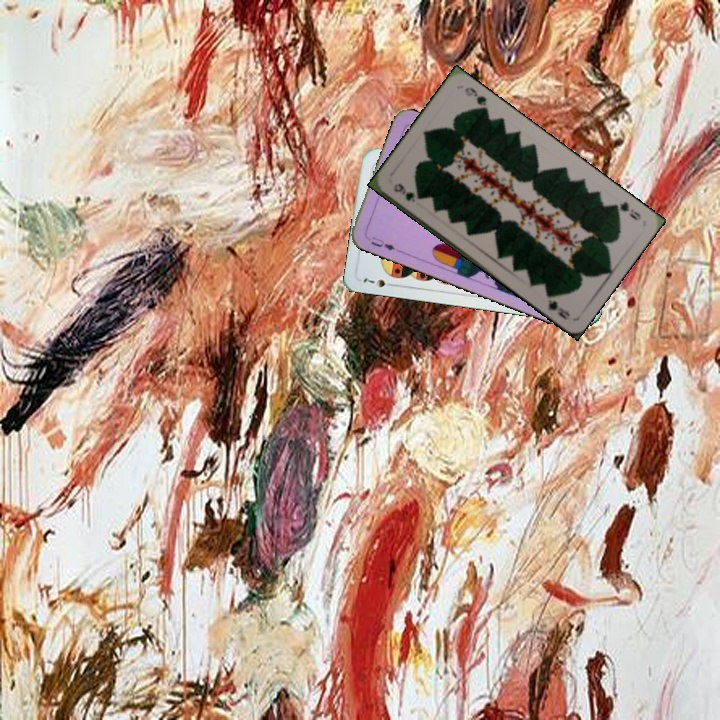EU: (367, 232, 398, 253)
G9: (607, 197, 644, 223), (389, 179, 418, 205)
S7: (359, 274, 398, 290)
